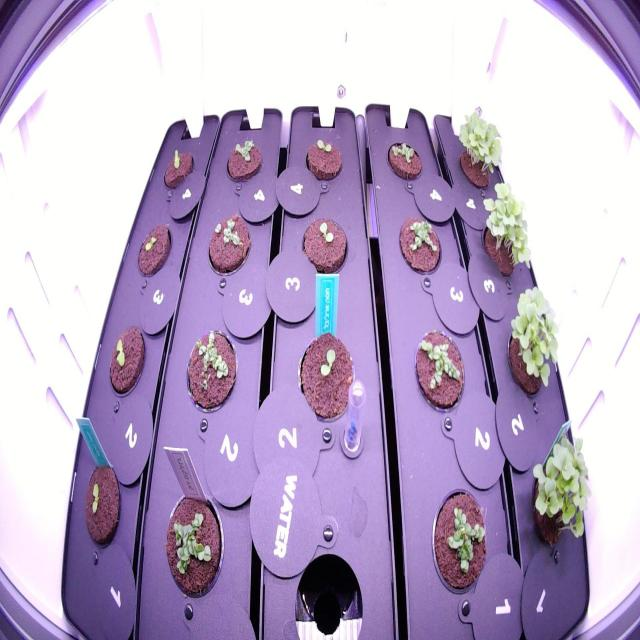germination: (520, 416, 595, 570), (158, 472, 229, 611), (501, 284, 572, 407), (424, 478, 493, 604), (292, 324, 361, 431), (470, 173, 539, 275), (180, 323, 243, 419), (411, 316, 468, 418), (450, 104, 511, 198), (78, 451, 126, 554), (295, 206, 352, 284), (202, 203, 256, 281), (105, 313, 150, 403), (394, 209, 446, 284), (132, 210, 177, 288), (298, 132, 350, 192), (220, 132, 268, 188), (381, 130, 428, 187), (158, 140, 200, 196)
